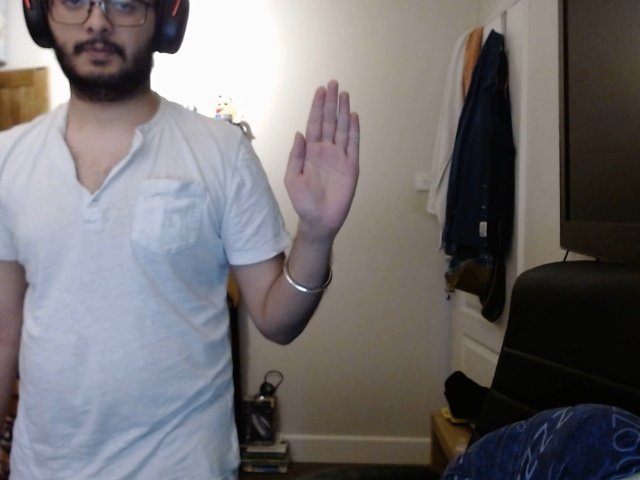Hello: (281, 78, 368, 250)
